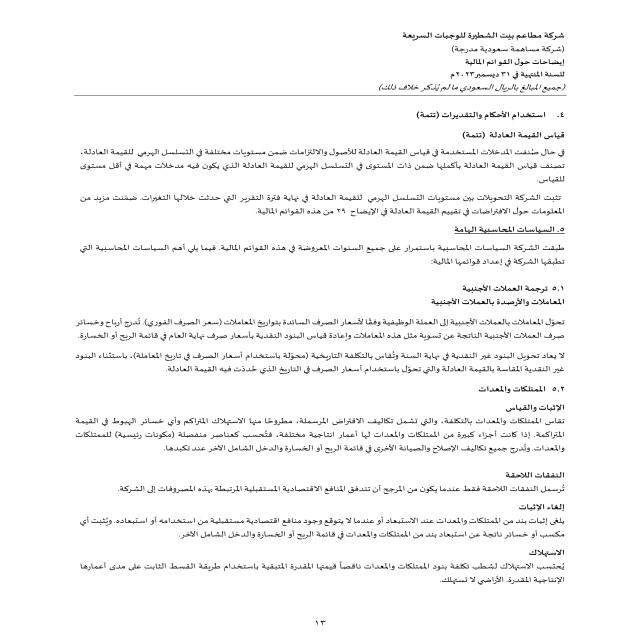notes: (444, 56, 571, 68)
text: (59, 108, 580, 592)
